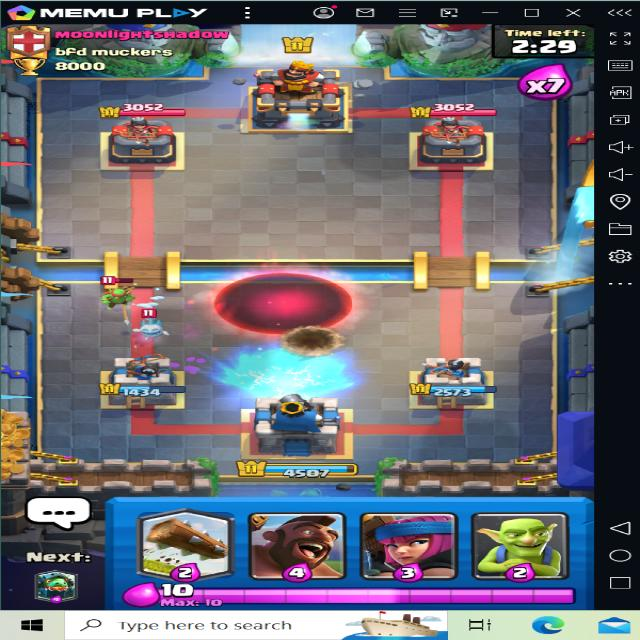ice-spirit: (130, 306, 170, 339)
lightning: (214, 341, 355, 404)
spear-goblin: (98, 279, 139, 304)
void: (207, 272, 352, 334)
